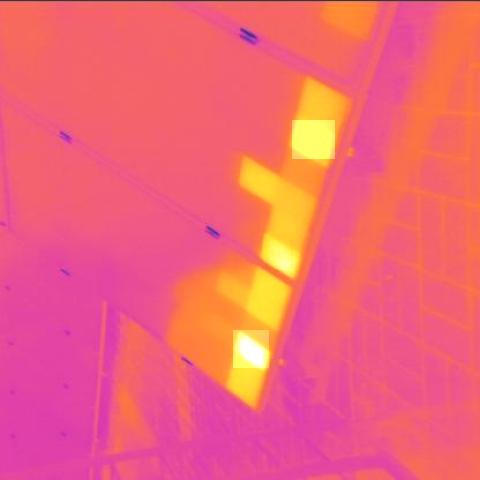fault: (292, 120, 335, 159), (234, 330, 270, 368), (264, 233, 294, 269)
